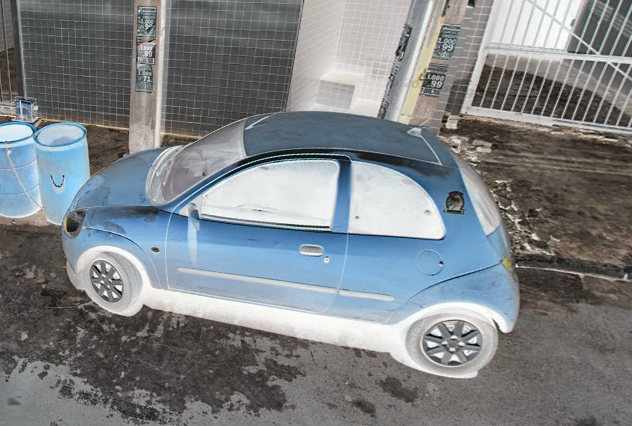car: (57, 94, 529, 382)
